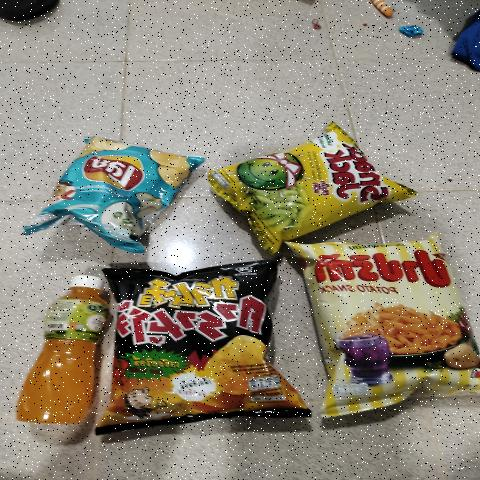karamujo: (127, 270, 269, 425)
lay_blue: (54, 148, 166, 236)
paprika: (325, 242, 442, 410)
snack_jack: (230, 129, 372, 234)
